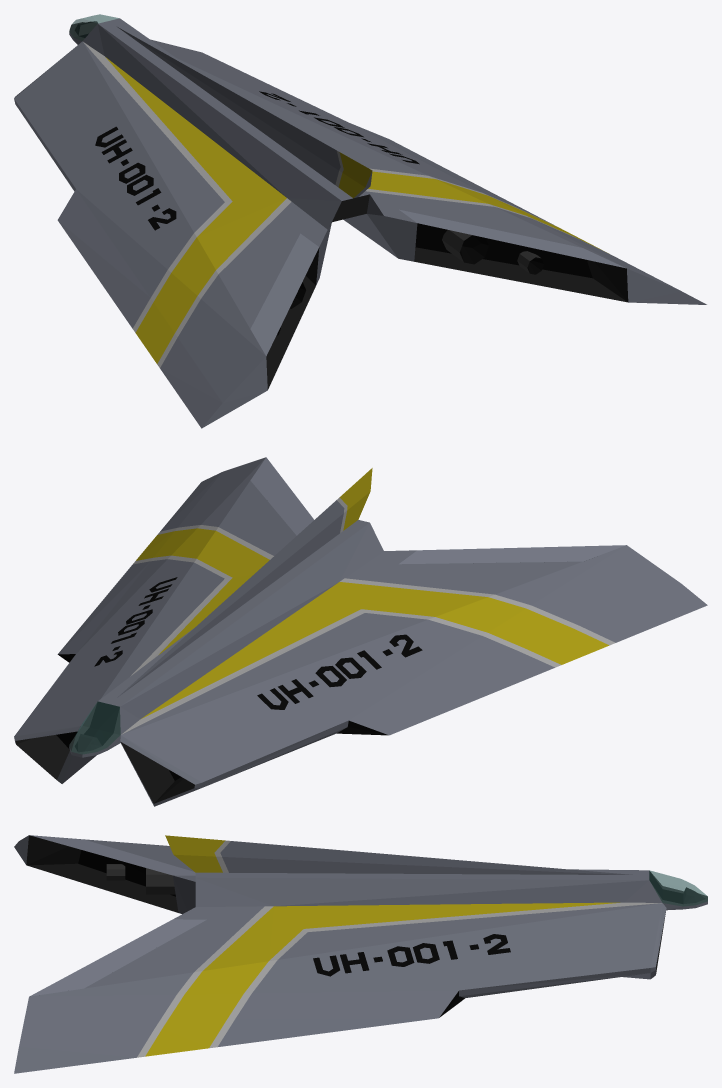
3 views of the same model, one above another, from view 1: azimuth 30°, elevation 25°; view 2: azimuth 150°, elevation 25°; view 3: azimuth 270°, elevation 25° (orthographic). The views are drawn at different scales.
Parts seen in each view (by area): view 1: ShapeIndexedFaceSet.035_ShapeIndexedFaceSet.036, ShapeIndexedFaceSet.026_ShapeIndexedFaceSet.027, ShapeIndexedFaceSet.029_ShapeIndexedFaceSet.030, ShapeIndexedFaceSet.020_ShapeIndexedFaceSet.021, ShapeIndexedFaceSet.031_ShapeIndexedFaceSet.032, ShapeIndexedFaceSet.023_ShapeIndexedFaceSet.024, ShapeIndexedFaceSet.038_ShapeIndexedFaceSet.039, ShapeIndexedFaceSet.121_ShapeIndexedFaceSet.122, ShapeIndexedFaceSet.113_ShapeIndexedFaceSet.114, ShapeIndexedFaceSet.030_ShapeIndexedFaceSet.031, ShapeIndexedFaceSet.119_ShapeIndexedFaceSet.120, ShapeIndexedFaceSet.028_ShapeIndexedFaceSet.029 (+5 smaller); view 2: ShapeIndexedFaceSet.035_ShapeIndexedFaceSet.036, ShapeIndexedFaceSet.026_ShapeIndexedFaceSet.027, ShapeIndexedFaceSet.029_ShapeIndexedFaceSet.030, ShapeIndexedFaceSet.031_ShapeIndexedFaceSet.032, ShapeIndexedFaceSet.038_ShapeIndexedFaceSet.039, ShapeIndexedFaceSet.020_ShapeIndexedFaceSet.021, ShapeIndexedFaceSet.023_ShapeIndexedFaceSet.024, ShapeIndexedFaceSet.024_ShapeIndexedFaceSet.025, ShapeIndexedFaceSet.113_ShapeIndexedFaceSet.114, ShapeIndexedFaceSet.028_ShapeIndexedFaceSet.029, ShapeIndexedFaceSet.030_ShapeIndexedFaceSet.031, ShapeIndexedFaceSet.119_ShapeIndexedFaceSet.120 (+4 smaller); view 3: ShapeIndexedFaceSet.035_ShapeIndexedFaceSet.036, ShapeIndexedFaceSet.026_ShapeIndexedFaceSet.027, ShapeIndexedFaceSet.029_ShapeIndexedFaceSet.030, ShapeIndexedFaceSet.028_ShapeIndexedFaceSet.029, ShapeIndexedFaceSet.020_ShapeIndexedFaceSet.021, ShapeIndexedFaceSet.038_ShapeIndexedFaceSet.039, ShapeIndexedFaceSet.023_ShapeIndexedFaceSet.024, ShapeIndexedFaceSet.119_ShapeIndexedFaceSet.120, ShapeIndexedFaceSet.027_ShapeIndexedFaceSet.028, ShapeIndexedFaceSet.115_ShapeIndexedFaceSet.116, ShapeIndexedFaceSet.024_ShapeIndexedFaceSet.025, ShapeIndexedFaceSet.113_ShapeIndexedFaceSet.114 (+3 smaller).
Part boxes in pixels (x1=…): ShapeIndexedFaceSet.035_ShapeIndexedFaceSet.036: x1=14, y1=39, x2=680, y2=428; ShapeIndexedFaceSet.026_ShapeIndexedFaceSet.027: x1=82, y1=24, x2=582, y2=247; ShapeIndexedFaceSet.029_ShapeIndexedFaceSet.030: x1=83, y1=27, x2=340, y2=328; ShapeIndexedFaceSet.020_ShapeIndexedFaceSet.021: x1=14, y1=18, x2=706, y2=428; ShapeIndexedFaceSet.031_ShapeIndexedFaceSet.032: x1=105, y1=57, x2=372, y2=269; ShapeIndexedFaceSet.023_ShapeIndexedFaceSet.024: x1=79, y1=33, x2=592, y2=336; ShapeIndexedFaceSet.038_ShapeIndexedFaceSet.039: x1=135, y1=179, x2=608, y2=363; ShapeIndexedFaceSet.121_ShapeIndexedFaceSet.122: x1=414, y1=247, x2=627, y2=302; ShapeIndexedFaceSet.113_ShapeIndexedFaceSet.114: x1=250, y1=233, x2=318, y2=356; ShapeIndexedFaceSet.030_ShapeIndexedFaceSet.031: x1=83, y1=42, x2=343, y2=273; ShapeIndexedFaceSet.119_ShapeIndexedFaceSet.120: x1=399, y1=209, x2=625, y2=268; ShapeIndexedFaceSet.028_ShapeIndexedFaceSet.029: x1=368, y1=171, x2=487, y2=203; ShapeIndexedFaceSet.035_ShapeIndexedFaceSet.036: x1=14, y1=457, x2=707, y2=782; ShapeIndexedFaceSet.026_ShapeIndexedFaceSet.027: x1=101, y1=480, x2=383, y2=734; ShapeIndexedFaceSet.029_ShapeIndexedFaceSet.030: x1=117, y1=500, x2=581, y2=734; ShapeIndexedFaceSet.031_ShapeIndexedFaceSet.032: x1=141, y1=468, x2=487, y2=718; ShapeIndexedFaceSet.038_ShapeIndexedFaceSet.039: x1=136, y1=528, x2=609, y2=664; ShapeIndexedFaceSet.020_ShapeIndexedFaceSet.021: x1=14, y1=520, x2=369, y2=806; ShapeIndexedFaceSet.023_ShapeIndexedFaceSet.024: x1=56, y1=577, x2=422, y2=780; ShapeIndexedFaceSet.024_ShapeIndexedFaceSet.025: x1=15, y1=734, x2=194, y2=803; ShapeIndexedFaceSet.113_ShapeIndexedFaceSet.114: x1=399, y1=545, x2=626, y2=564; ShapeIndexedFaceSet.028_ShapeIndexedFaceSet.029: x1=159, y1=531, x2=269, y2=654; ShapeIndexedFaceSet.030_ShapeIndexedFaceSet.031: x1=121, y1=497, x2=494, y2=734; ShapeIndexedFaceSet.119_ShapeIndexedFaceSet.120: x1=250, y1=457, x2=313, y2=535; ShapeIndexedFaceSet.035_ShapeIndexedFaceSet.036: x1=14, y1=836, x2=662, y2=1073; ShapeIndexedFaceSet.026_ShapeIndexedFaceSet.027: x1=84, y1=841, x2=659, y2=988; ShapeIndexedFaceSet.029_ShapeIndexedFaceSet.030: x1=85, y1=839, x2=662, y2=906; ShapeIndexedFaceSet.028_ShapeIndexedFaceSet.029: x1=165, y1=835, x2=619, y2=970; ShapeIndexedFaceSet.020_ShapeIndexedFaceSet.021: x1=14, y1=835, x2=666, y2=997; ShapeIndexedFaceSet.038_ShapeIndexedFaceSet.039: x1=145, y1=961, x2=268, y2=1056; ShapeIndexedFaceSet.023_ShapeIndexedFaceSet.024: x1=78, y1=850, x2=683, y2=1017; ShapeIndexedFaceSet.119_ShapeIndexedFaceSet.120: x1=29, y1=919, x2=206, y2=996; ShapeIndexedFaceSet.027_ShapeIndexedFaceSet.028: x1=194, y1=840, x2=661, y2=972; ShapeIndexedFaceSet.115_ShapeIndexedFaceSet.116: x1=27, y1=863, x2=178, y2=912; ShapeIndexedFaceSet.024_ShapeIndexedFaceSet.025: x1=26, y1=835, x2=705, y2=973; ShapeIndexedFaceSet.113_ShapeIndexedFaceSet.114: x1=30, y1=835, x2=195, y2=875.
Size of the model in its own units: 118 by 30.42 by 153.
